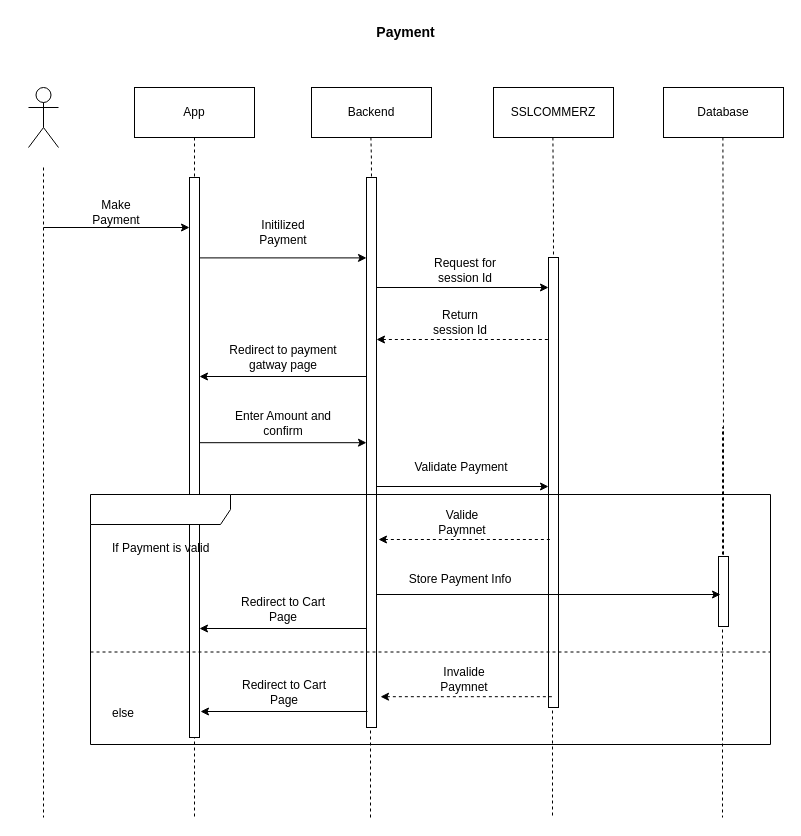
Image size: 801x836. Some labels were removed from this diagram. The box of each missing label's shape, as (x1, y1, x2, y2) in pixels:
Customer: (28, 86, 58, 148)
Interaction1 heading: (90, 494, 770, 744)
